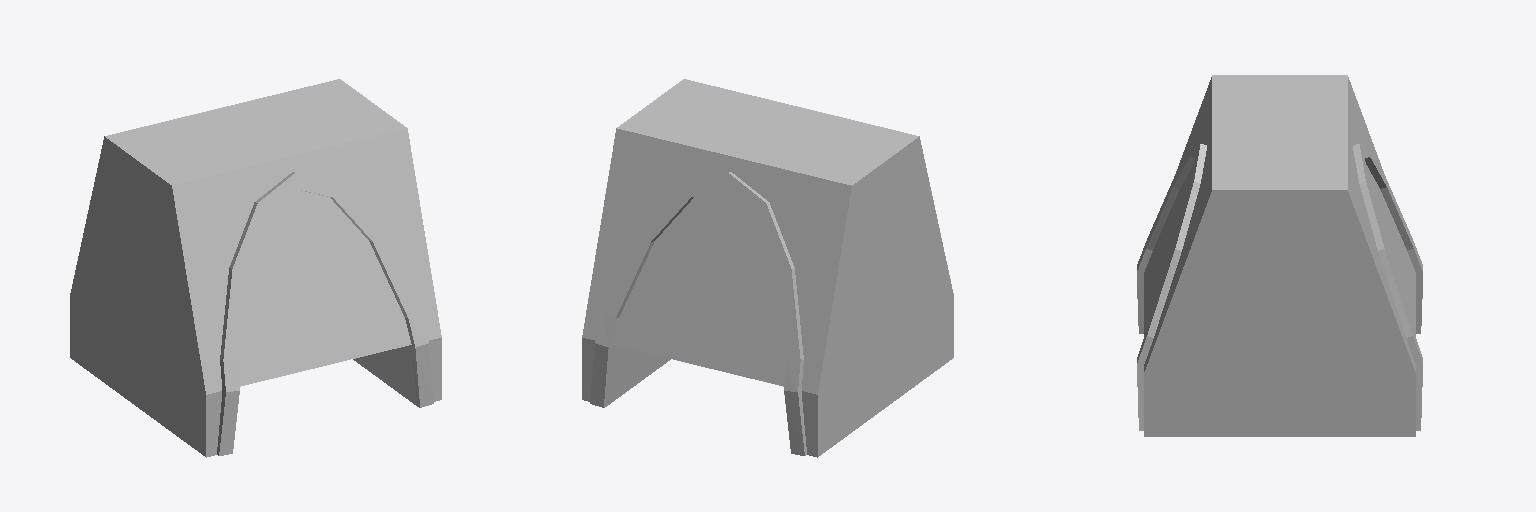
File: wall w door.obj
3 views of the same model, side by side, from view 1: azimuth 30°, elevation 25°; view 2: azimuth 150°, elevation 25°; view 3: azimuth 270°, elevation 25° (orthographic).
Visible parts, largest first — view 1: Cube.001; view 2: Cube.001; view 3: Cube.001.
Part boxes in pixels (x1,y1,x2,y2): Cube.001: (70,79,441,457); Cube.001: (582,79,953,457); Cube.001: (1137,75,1422,436).
Bounding box in the file's own units: 2 × 2.01 × 2.11.